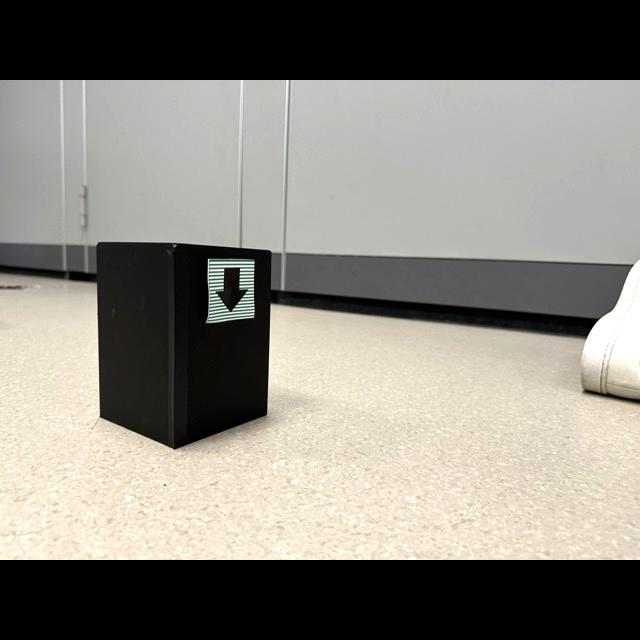DOWN: (215, 268, 248, 313)
